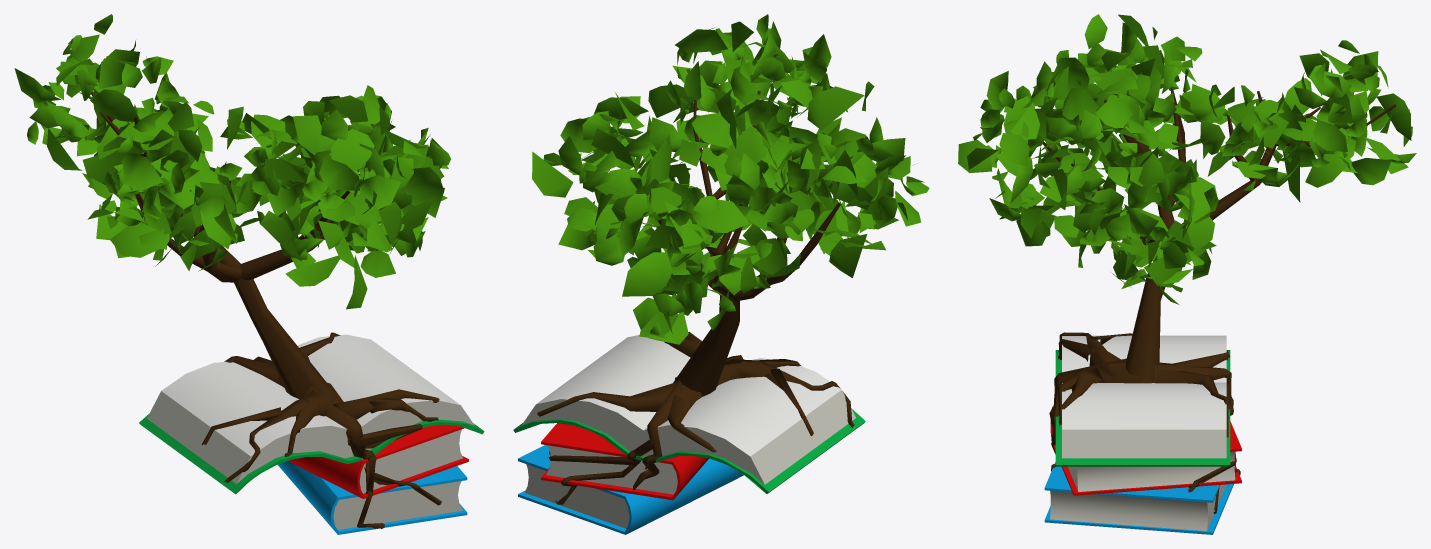
Rendered from booktree-low.glb.
3 renders of one model, left to right at view 1: azimuth 30°, elevation 25°; view 2: azimuth 150°, elevation 25°; view 3: azimuth 270°, elevation 25°, orthographic. The views are drawn at different scales.
Parts seen in each view (by area): view 1: Roots; view 2: Roots; view 3: Roots.
Boxes of the visible parts, <box> form: Roots: <box>14,14,484,534</box>; Roots: <box>513,14,929,534</box>; Roots: <box>958,14,1416,534</box>.
Size of the model in its own units: 8.6 by 10.04 by 10.33.
